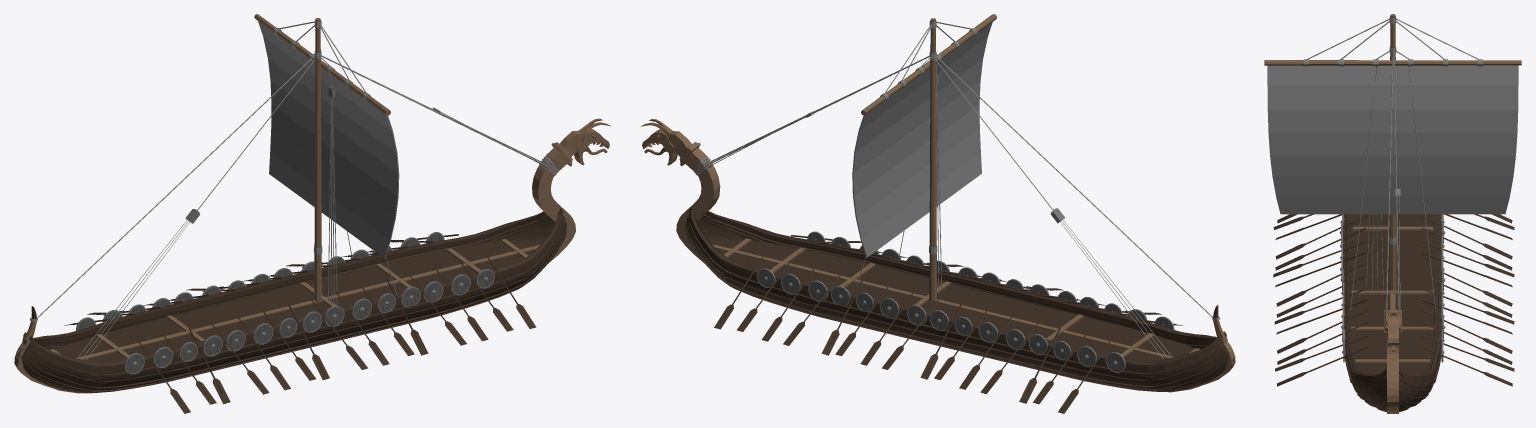
Rendered from SM_longboat_large_01.fbx.
3 views of the same model, side by side, from view 1: azimuth 30°, elevation 25°; view 2: azimuth 150°, elevation 25°; view 3: azimuth 270°, elevation 25° (orthographic). The views are drawn at different scales.
Parts seen in each view (by area): view 1: Object463; view 2: Object463; view 3: Object463.
Part boxes in pixels (bbox=[...]): Object463: bbox=[14, 14, 610, 413]; Object463: bbox=[641, 14, 1235, 413]; Object463: bbox=[1264, 14, 1521, 413].
Bounding box in the file's own units: 918 × 477 × 354.
